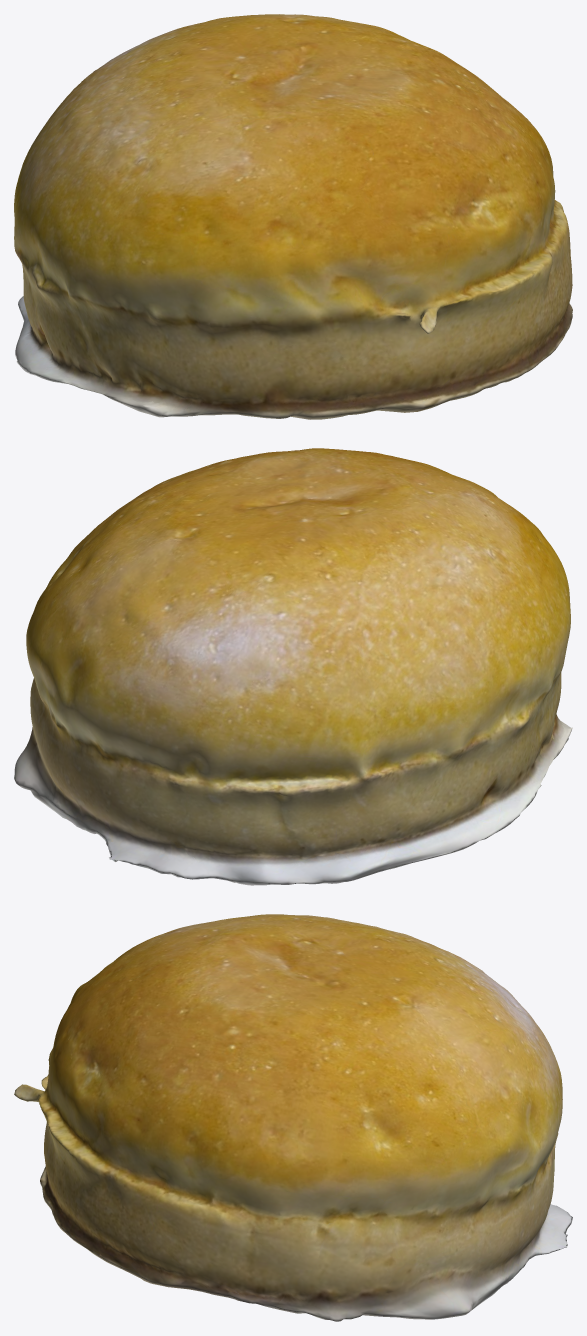
Rendered from food2.glb.
3 renders of one model, top to bottom at view 1: azimuth 30°, elevation 25°; view 2: azimuth 150°, elevation 25°; view 3: azimuth 270°, elevation 25°, orthographic. The views are drawn at different scales.
Visible parts, largest first — view 1: Yemek; view 2: Yemek; view 3: Yemek.
Part boxes in pixels (x1,y1,x2,y2): Yemek: (14, 14, 572, 419); Yemek: (14, 448, 572, 885); Yemek: (14, 914, 572, 1321).
Bounding box in the file's own units: 0.3002 × 0.1721 × 0.324.
Materials: 1 (1 with a texture image).
